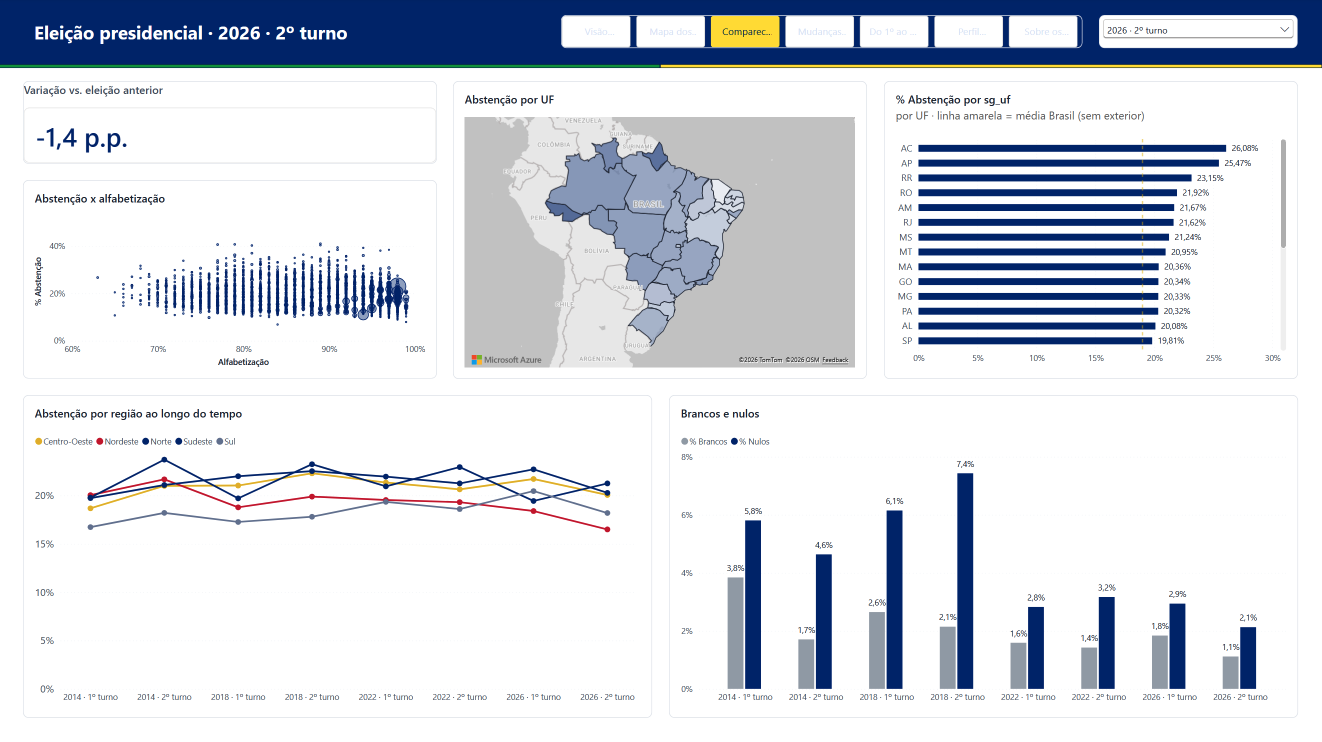

This screenshot's page, from the dashboard's own definition file:
{"tool":"powerbi","page":{"name":"Comparecimento e abstenção","canvas":[1920,1080],"ordinal":2},"visuals":[{"type":"shape","box":[0,0,1920,96],"z":0},{"type":"shape","box":[0,96,960,6],"z":1000},{"type":"shape","box":[960,96,960,6],"z":2000},{"type":"cardVisual","fields":{"Data":["_Medidas.Título Eleição"]},"box":[36,24,756,48],"z":3000},{"type":"pageNavigator","box":[816,24,756,48],"z":4000},{"type":"slicer","fields":{"Values":["dTurno.rotulo_turno"]},"box":[1596,24,288,48],"z":5000},{"type":"azureMap","title":"Abstenção por UF","fields":{"Category":["dMunicipio.sg_uf_nome"]},"box":[660,120,600,432],"z":6000},{"type":"clusteredBarChart","fields":{"Category":["dMunicipio.sg_uf"],"Y":["_Medidas.% Abstenção"]},"box":[1284,120,600,432],"z":7000},{"type":"lineChart","title":"Abstenção por região ao longo do tempo","fields":{"Category":["dTurno.rotulo_turno"],"Series":["dMunicipio.sg_regiao_nome"],"Y":["_Medidas.% Abstenção"]},"box":[36,576,912,468],"z":8000},{"type":"clusteredColumnChart","title":"Brancos e nulos","fields":{"Category":["dTurno.rotulo_turno"],"Y":["_Medidas.% Brancos","_Medidas.% Nulos"]},"box":[972,576,912,468],"z":9000},{"type":"scatterChart","title":"Abstenção x alfabetização","fields":{"Category":["dMunicipio.cd_municipio_tse"],"Size":["_Medidas.Aptos"],"X":["_Medidas.Alfabetização"],"Y":["_Medidas.% Abstenção"]},"box":[36,264,600,288],"z":10000},{"type":"cardVisual","title":"Variação vs. eleição anterior","fields":{"Data":["_Medidas.Variação Abstenção p.p."]},"box":[36,120,600,120],"z":11000}]}

Visuals, with their boxes on the page's 1920x1080 design canvas (x1, y1, x2, y2). These are canvas units, not pixel positions in the 1322x742 screenshot, which may show the page scaled, cropped or inside an application window:
shape: box(0, 0, 1920, 96)
shape: box(0, 96, 960, 102)
shape: box(960, 96, 1920, 102)
cardVisual - _Medidas.Título Eleição: box(36, 24, 792, 72)
pageNavigator: box(816, 24, 1572, 72)
slicer - dTurno.rotulo_turno: box(1596, 24, 1884, 72)
"Abstenção por UF" azureMap: box(660, 120, 1260, 552)
clusteredBarChart - dMunicipio.sg_uf x _Medidas.% Abstenção: box(1284, 120, 1884, 552)
"Abstenção por região ao longo do tempo" lineChart: box(36, 576, 948, 1044)
"Brancos e nulos" clusteredColumnChart: box(972, 576, 1884, 1044)
"Abstenção x alfabetização" scatterChart: box(36, 264, 636, 552)
"Variação vs. eleição anterior" cardVisual: box(36, 120, 636, 240)
